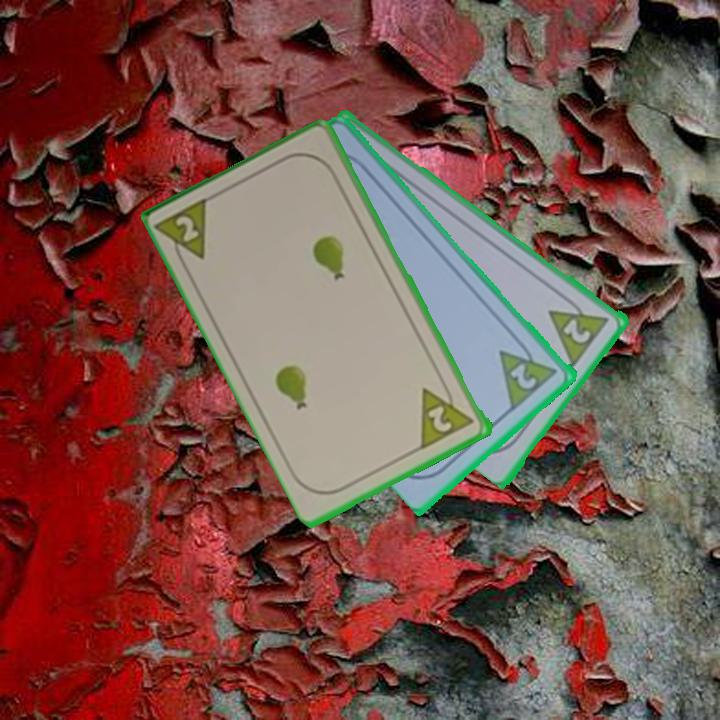2p: (495, 333, 562, 412), (154, 193, 214, 273), (560, 314, 595, 347), (424, 402, 456, 436)
